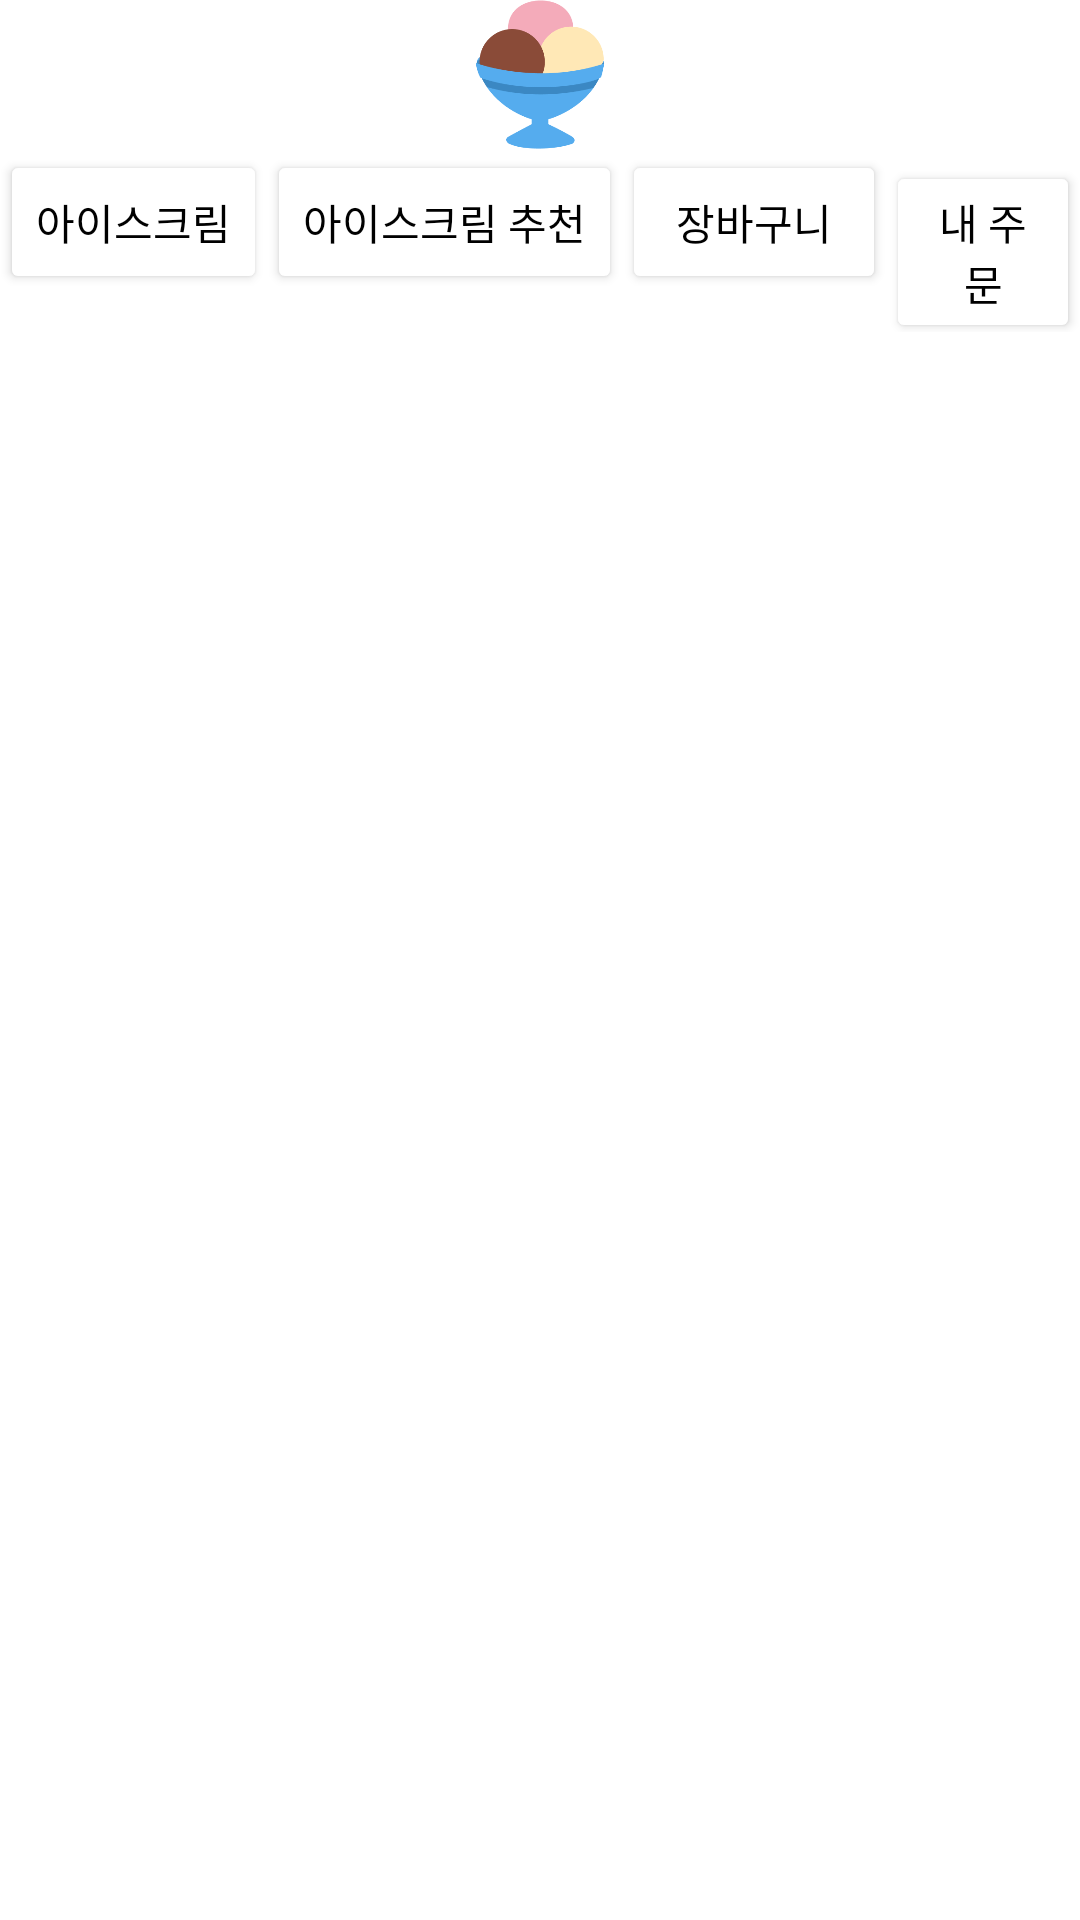

Screen size 1080px×1920px. Icon name, then its center in pixels as (x,y):
icecreame: (540,74)
